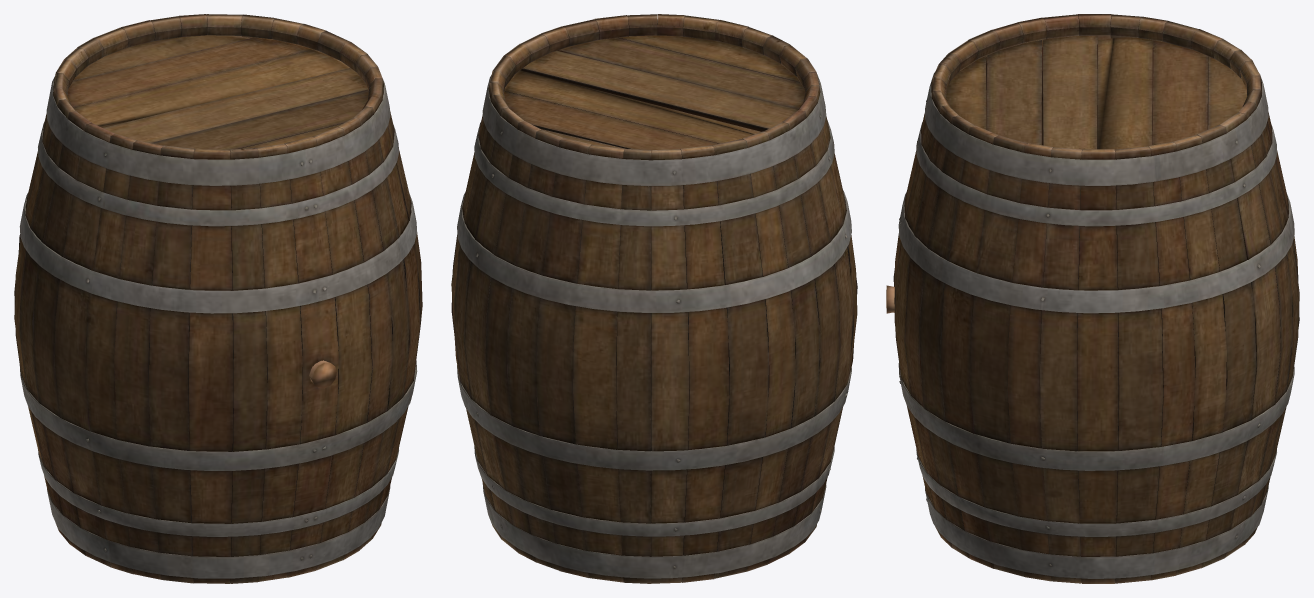
The model's file is wine_barrel_01.glb.
The picture shows the model from 3 angles, left to right: view 1: azimuth 30°, elevation 25°; view 2: azimuth 150°, elevation 25°; view 3: azimuth 270°, elevation 25°; orthographic projection.
Parts seen in each view (by area): view 1: wine_barrel_01, wine_barrel_01_Lid, wine_barrel_01_bung; view 2: wine_barrel_01, wine_barrel_01_Lid; view 3: wine_barrel_01, wine_barrel_01_Lid.
Part boxes in pixels (bbox=[...]): wine_barrel_01: bbox=[14, 14, 422, 583]; wine_barrel_01_Lid: bbox=[67, 35, 368, 149]; wine_barrel_01_bung: bbox=[309, 360, 336, 388]; wine_barrel_01: bbox=[451, 14, 857, 583]; wine_barrel_01_Lid: bbox=[504, 35, 805, 152]; wine_barrel_01: bbox=[893, 14, 1299, 583]; wine_barrel_01_Lid: bbox=[946, 36, 1247, 149].
Size of the model in its own units: 0.7422 by 0.8705 by 0.7558.
Materials: 1 (1 with a texture image).
